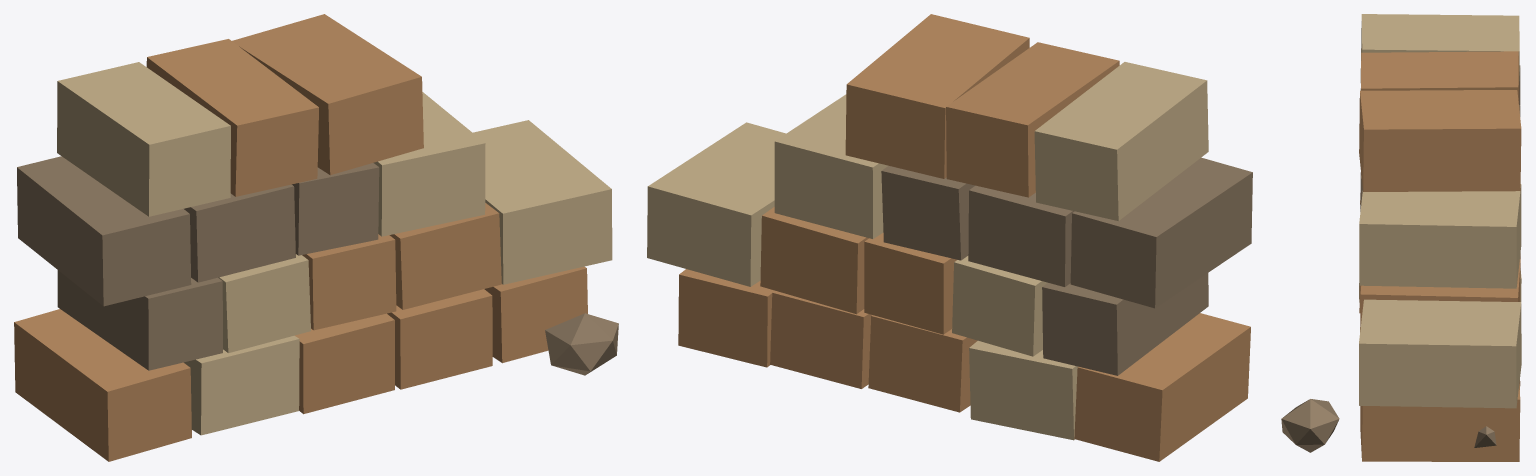
Rendered from wall_low.glb.
3 renders of one model, left to right at view 1: azimuth 30°, elevation 25°; view 2: azimuth 150°, elevation 25°; view 3: azimuth 270°, elevation 25°, orthographic. The views are drawn at different scales.
Parts seen in each view (by area): view 1: wall_low; view 2: wall_low; view 3: wall_low.
Boxes of the visible parts, x1,y1,x2,y2 form: wall_low: [14, 14, 618, 461]; wall_low: [647, 14, 1252, 461]; wall_low: [1281, 14, 1521, 461].
Bounding box in the file's own units: 0.9819 × 0.5617 × 0.4575.
